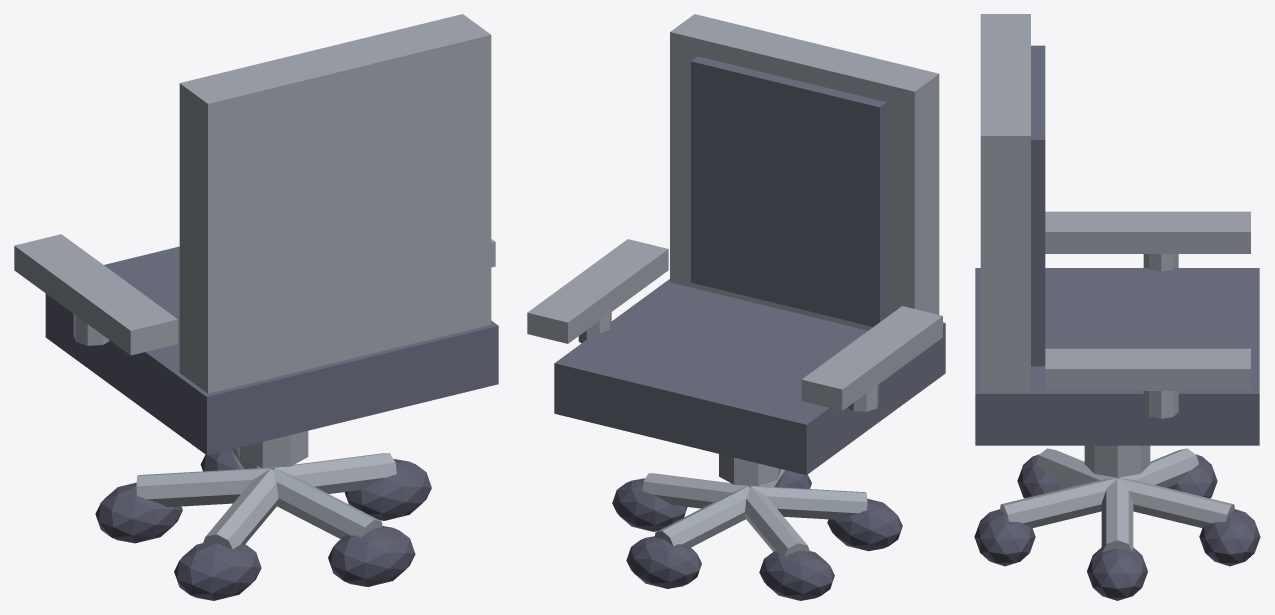
Rendered from obstacle_office_chair.glb.
The picture shows the model from 3 angles, left to right: view 1: azimuth 30°, elevation 25°; view 2: azimuth 150°, elevation 25°; view 3: azimuth 270°, elevation 25°; orthographic projection. The views are drawn at different scales.
Parts seen in each view (by area): view 1: 001_back, 000_seat, 003_armrest_-1, 011_wheel_1, 013_wheel_2, 014_foot_3, 010_foot_1, 015_wheel_3, 009_wheel_0, 008_foot_0, 012_foot_2, 007_pedestal (+2 smaller); view 2: 002_back_inset, 000_seat, 001_back, 005_armrest_1, 003_armrest_-1, 015_wheel_3, 017_wheel_4, 012_foot_2, 016_foot_4, 013_wheel_2, 009_wheel_0, 008_foot_0 (+2 smaller); view 3: 000_seat, 001_back, 003_armrest_-1, 005_armrest_1, 002_back_inset, 010_foot_1, 016_foot_4, 009_wheel_0, 011_wheel_1, 017_wheel_4, 008_foot_0, 007_pedestal (+6 smaller).
Boxes of the visible parts, x1,y1,x2,y2 form: 001_back: (179,14,491,393); 000_seat: (45,246,498,455); 003_armrest_-1: (14,234,177,355); 011_wheel_1: (328,526,415,586); 013_wheel_2: (174,543,261,600); 014_foot_3: (136,468,270,507); 010_foot_1: (273,468,382,538); 015_wheel_3: (95,482,182,543); 009_wheel_0: (344,459,431,520); 008_foot_0: (273,453,396,493); 012_foot_2: (203,469,278,549); 007_pedestal: (236,431,308,467); 002_back_inset: (691,56,886,326); 000_seat: (554,279,945,474); 001_back: (670,14,939,330); 005_armrest_1: (527,239,668,343); 003_armrest_-1: (801,306,942,410); 015_wheel_3: (759,551,834,600); 017_wheel_4: (626,536,701,588); 012_foot_2: (751,486,867,519); 016_foot_4: (654,486,749,547); 013_wheel_2: (827,498,902,551); 009_wheel_0: (612,478,687,531); 008_foot_0: (642,473,749,508); 000_seat: (975,268,1259,445); 001_back: (980,14,1030,391); 003_armrest_-1: (1045,211,1250,253); 005_armrest_1: (1045,348,1250,390); 002_back_inset: (1031,45,1045,366); 010_foot_1: (1000,478,1116,528); 016_foot_4: (1118,478,1234,528); 009_wheel_0: (1087,547,1147,600); 011_wheel_1: (974,509,1035,566); 017_wheel_4: (1199,509,1260,566); 008_foot_0: (1101,478,1133,551); 007_pedestal: (1084,445,1150,477).
Bounding box in the file's own units: 0.85 × 1.19 × 0.6536.
